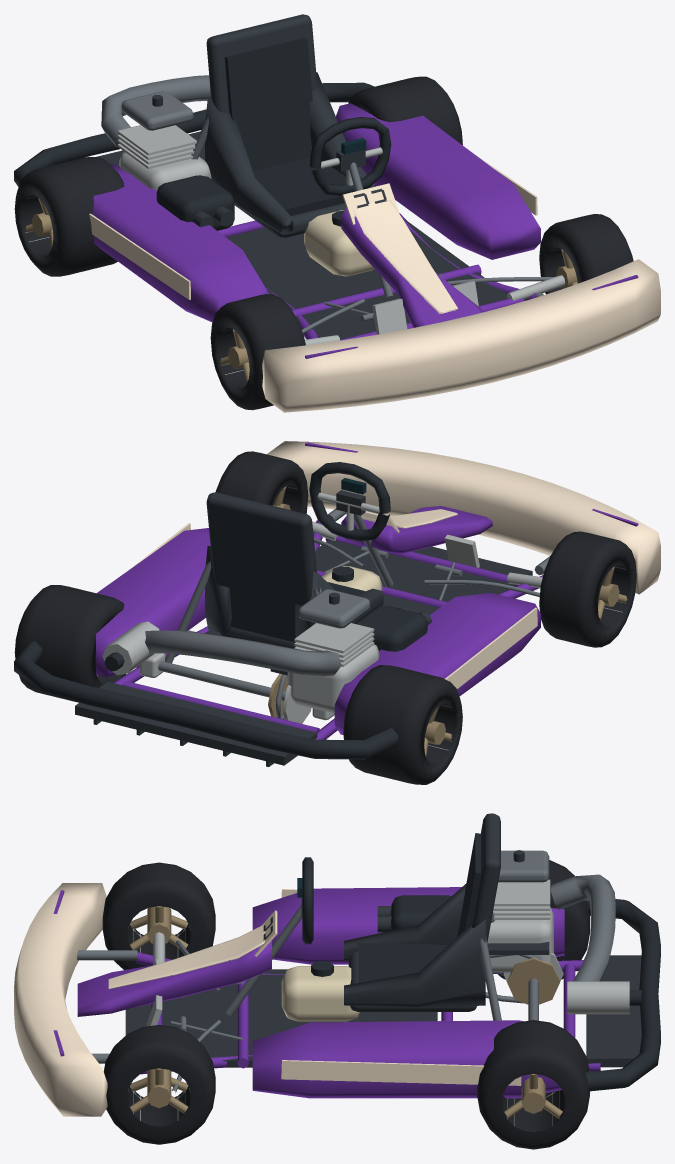
The model's file is oodi-lod.glb.
3 renders of one model, top to bottom at view 1: azimuth 30°, elevation 25°; view 2: azimuth 150°, elevation 25°; view 3: azimuth 270°, elevation 25°, orthographic.
Parts seen in each view (by area): view 1: Livery ivory (×2), paint, Slick vulcanised rubber (×4), Satin composite, Seat fabric, Moulded bumper polymer (×2), Steel fasteners, Brushed alloy (×2), Fuel reservoir, Magnesium wheel centres (×2); view 2: Slick vulcanised rubber (×4), Satin composite (×3), paint, Livery ivory (×2), Moulded bumper polymer (×2), Steel fasteners, Brushed alloy (×3), Magnesium wheel centres (×2), Fuel reservoir; view 3: paint, Slick vulcanised rubber (×4), Satin composite (×2), Livery ivory (×2), Steel fasteners (×2), Moulded bumper polymer (×2), Brushed alloy, Magnesium wheel centres (×4), Seat fabric, Fuel reservoir.
Part boxes in pixels (<box>): Livery ivory (×2): <box>89,154,660,412</box>; paint: <box>92,103,540,340</box>; Slick vulcanised rubber (×4): <box>14,76,633,410</box>; Satin composite: <box>152,14,507,339</box>; Seat fabric: <box>224,37,346,215</box>; Moulded bumper polymer (×2): <box>14,82,391,230</box>; Steel fasteners: <box>101,75,554,333</box>; Brushed alloy (×2): <box>117,125,565,345</box>; Fuel reservoir: <box>304,210,374,276</box>; Magnesium wheel centres (×2): <box>25,198,249,382</box>; Slick vulcanised rubber (×4): <box>14,451,636,784</box>; Satin composite (×3): <box>75,490,532,766</box>; paint: <box>95,506,543,739</box>; Livery ivory (×2): <box>131,441,660,688</box>; Moulded bumper polymer (×2): <box>14,462,427,759</box>; Steel fasteners: <box>139,514,539,719</box>; Brushed alloy (×3): <box>102,492,542,723</box>; Magnesium wheel centres (×2): <box>424,567,627,756</box>; Fuel reservoir: <box>321,566,382,591</box>; paint: <box>77,887,600,1098</box>; Slick vulcanised rubber (×4): <box>102,860,589,1149</box>; Satin composite (×2): <box>125,813,641,1067</box>; Livery ivory (×2): <box>14,883,521,1116</box>; Steel fasteners (×2): <box>77,850,615,1092</box>; Moulded bumper polymer (×2): <box>302,857,660,1091</box>; Brushed alloy: <box>153,879,629,1014</box>; Magnesium wheel centres (×4): <box>130,906,562,1118</box>; Seat fabric: <box>358,833,480,983</box>; Fuel reservoir: <box>281,966,360,1021</box>.
Size of the model in its own units: 1.96 by 1.01 by 2.7.
